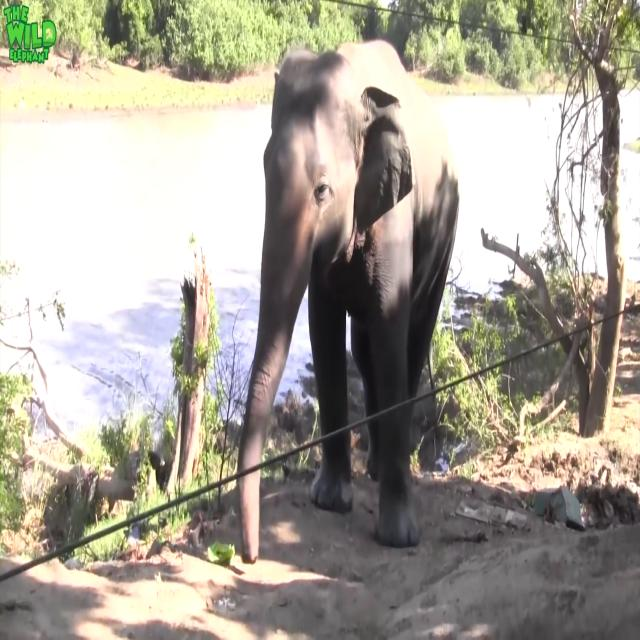Elephant: (236, 38, 460, 562)
